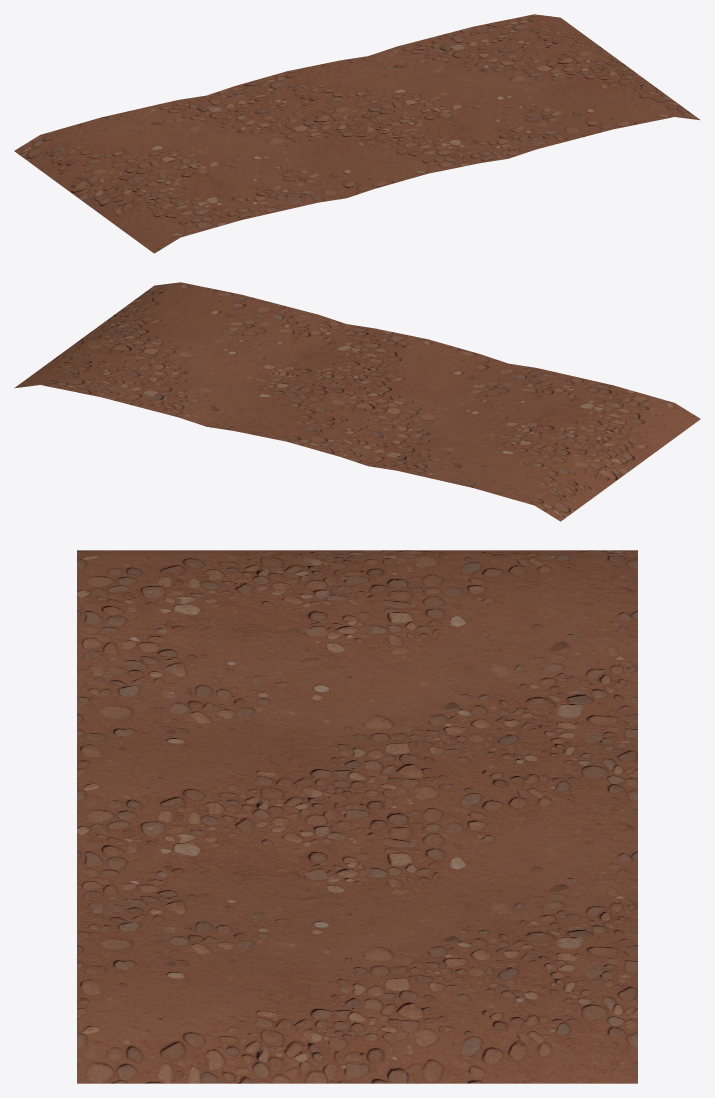
File: road_straight.glb
3 renders of one model, top to bottom at view 1: azimuth 30°, elevation 25°; view 2: azimuth 150°, elevation 25°; view 3: azimuth 270°, elevation 25°, orthographic. The views are drawn at different scales.
Parts seen in each view (by area): view 1: road_straight; view 2: road_straight; view 3: road_straight.
Part boxes in pixels (x1,y1,x2,y2): road_straight: (14, 14, 700, 253); road_straight: (14, 282, 700, 521); road_straight: (77, 550, 637, 1083).
Bounding box in the file's own units: 6.75 × 0.155 × 3.
Materials: 1 (1 with a texture image).
